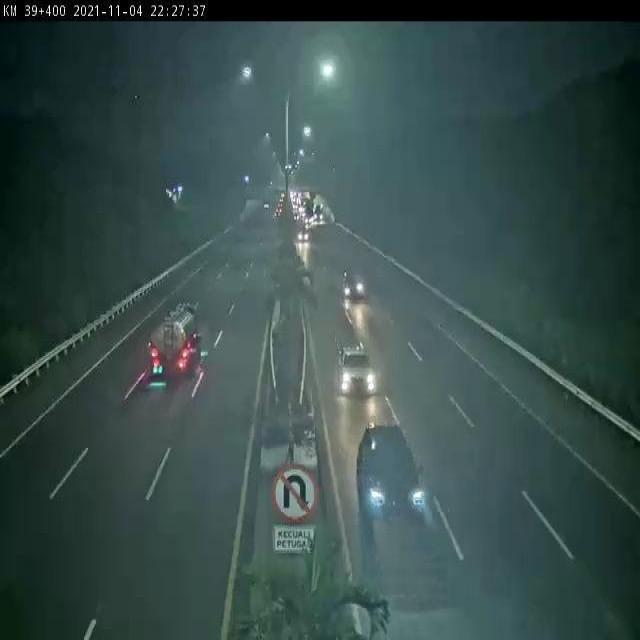car: (358, 425, 421, 516), (339, 344, 376, 396), (340, 269, 365, 299)
truck: (151, 304, 198, 375)
